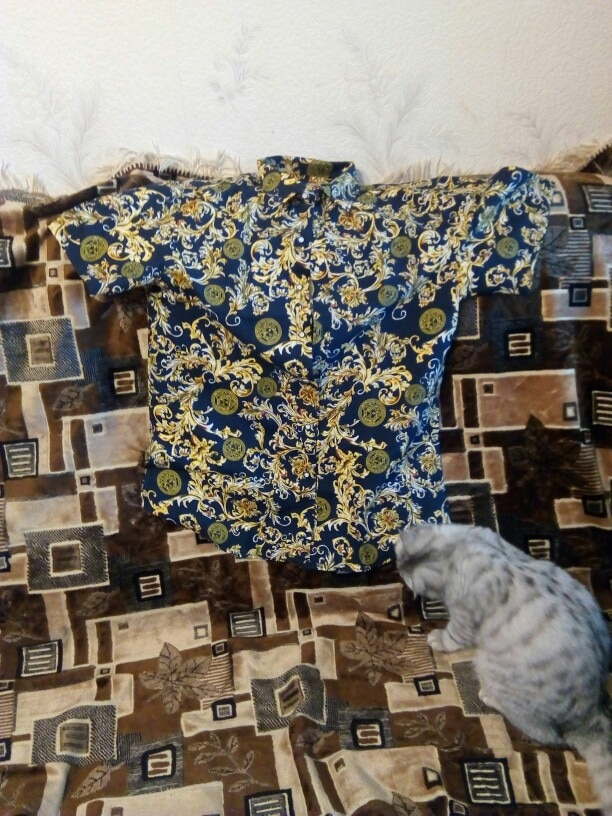shirts: (57, 148, 543, 574)
